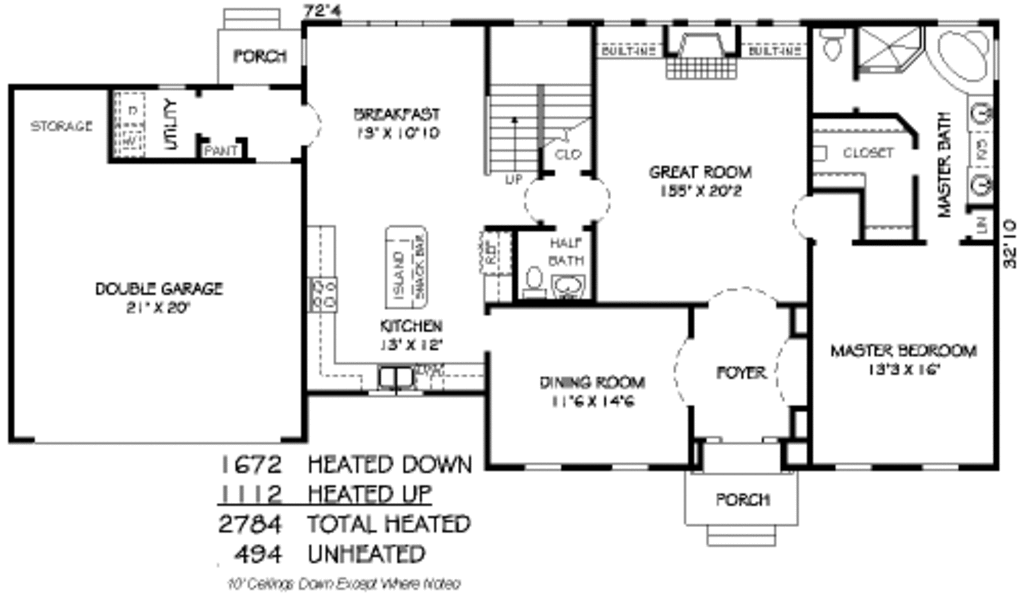kitchen_bar: (378, 219, 440, 310)
large_sink: (820, 24, 853, 71), (517, 257, 544, 301)
small_sink: (966, 92, 993, 204), (546, 271, 591, 303)
stairs: (486, 80, 598, 171)
twin_sink: (358, 354, 422, 398)
window: (336, 14, 452, 29), (608, 452, 650, 477), (524, 453, 563, 476), (508, 16, 565, 28), (917, 459, 964, 473), (836, 458, 871, 470)
